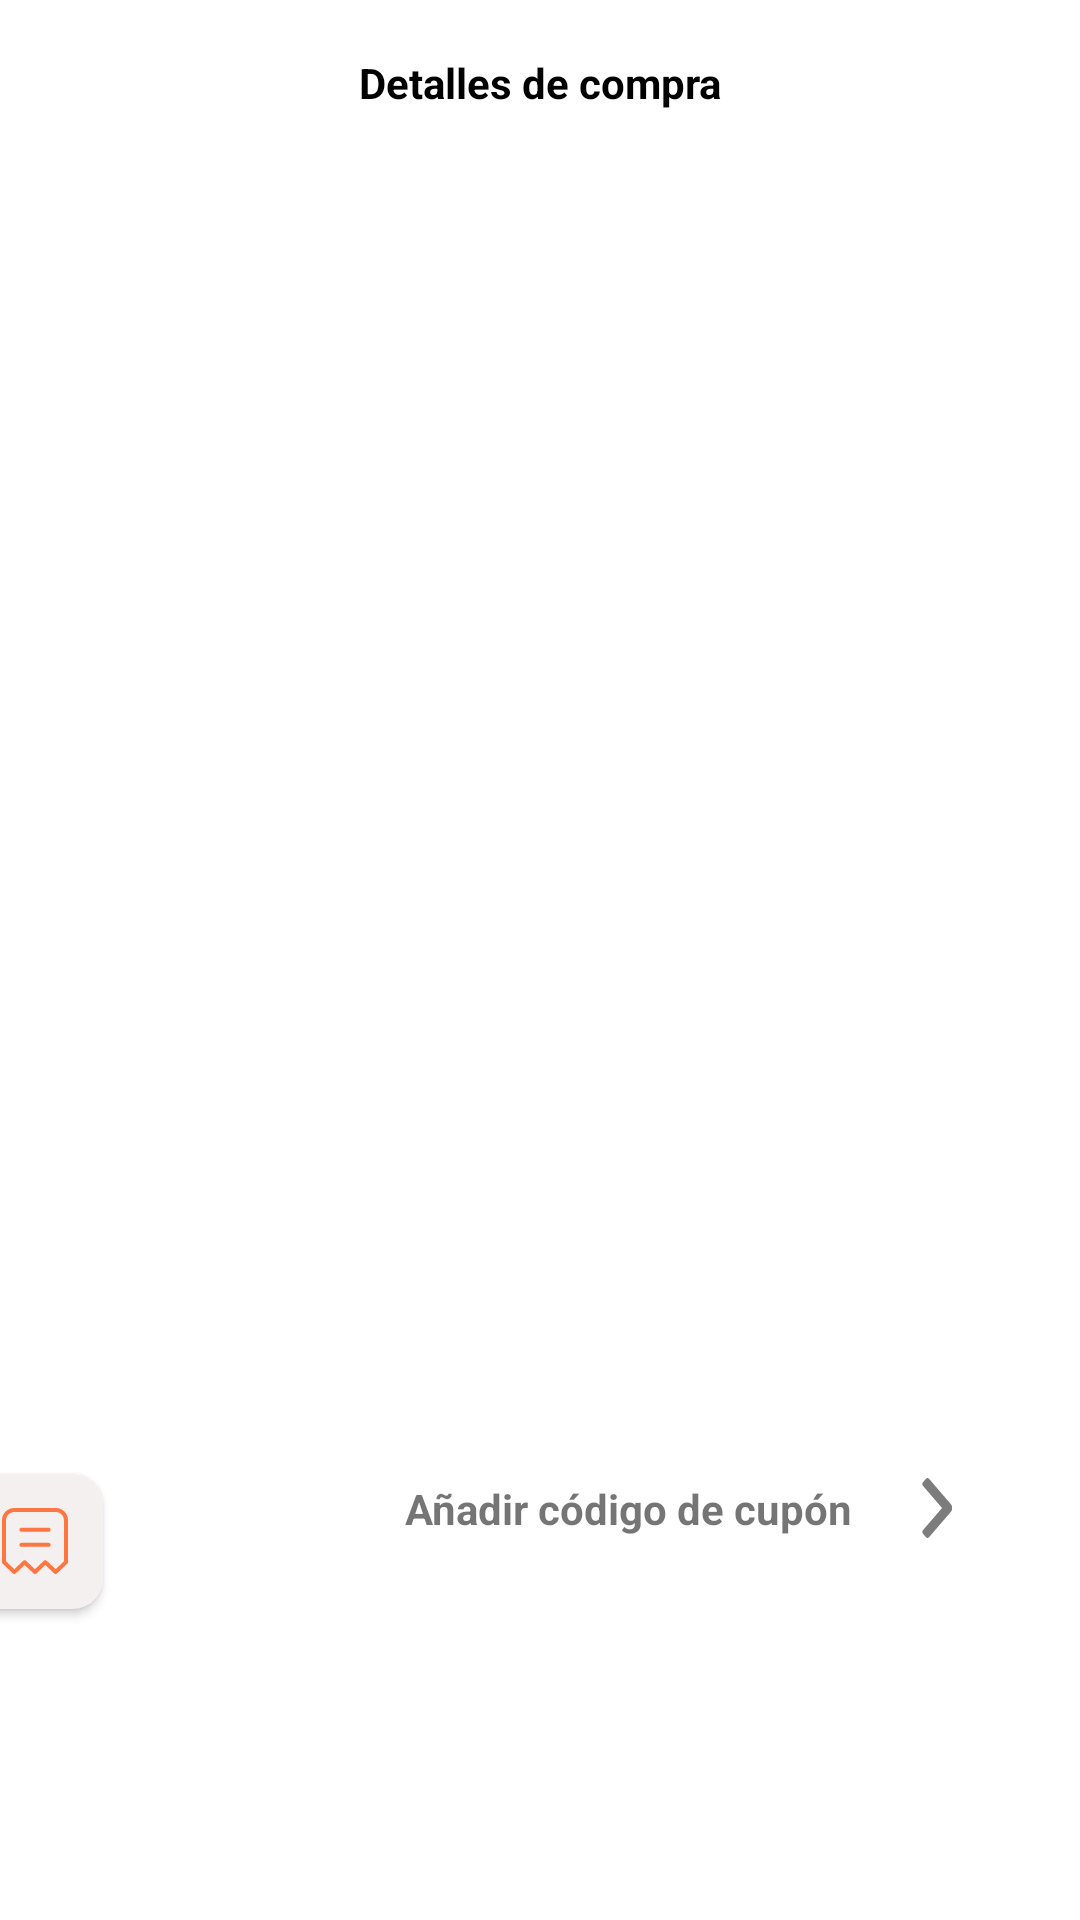

Locate icon controls on the screen. Image size 1080 x 1920, boxes as (x1, y1, x2, y2).
arrow right: (922, 1478, 952, 1538)
bill: (2, 1508, 68, 1574)
